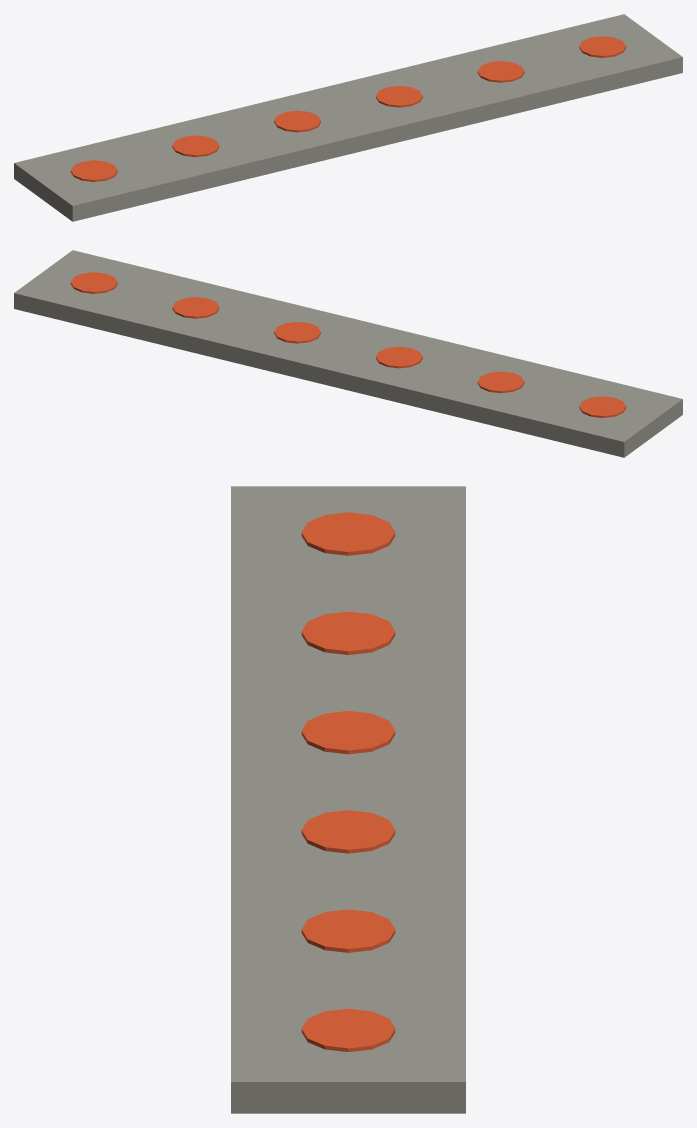
Rendered from furia_trilha.glb.
The picture shows the model from 3 angles, top to bottom: view 1: azimuth 30°, elevation 25°; view 2: azimuth 150°, elevation 25°; view 3: azimuth 270°, elevation 25°; orthographic projection. The views are drawn at different scales.
Parts seen in each view (by area): view 1: furia_trilha; view 2: furia_trilha; view 3: furia_trilha.
Part boxes in pixels (<box>): furia_trilha: <box>14,14,682,221</box>; furia_trilha: <box>14,250,682,457</box>; furia_trilha: <box>231,486,465,1113</box>.
Size of the model in its own units: 18 by 0.5 by 3.
